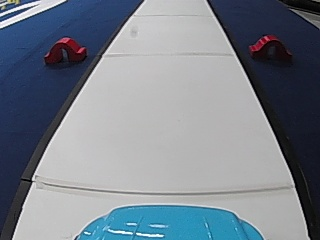bridge: (42, 33, 87, 66), (246, 32, 291, 63)
